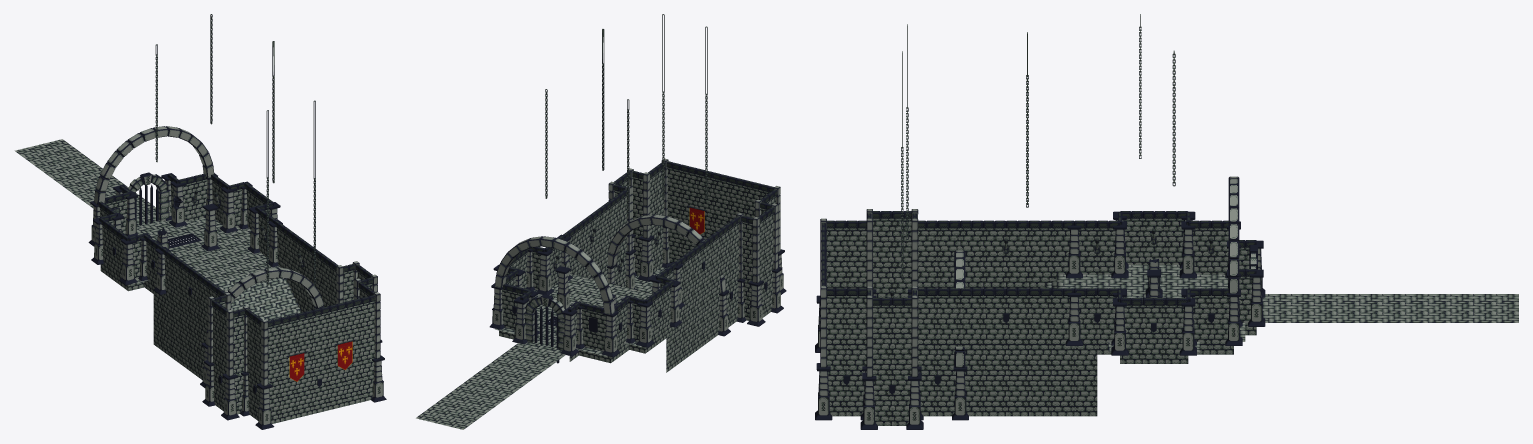
The model's file is Level0.fbx.
3 renders of one model, left to right at view 1: azimuth 30°, elevation 25°; view 2: azimuth 150°, elevation 25°; view 3: azimuth 270°, elevation 25°, orthographic. The views are drawn at different scales.
Parts seen in each view (by area): view 1: Level0, Door; view 2: Level0, Door; view 3: Level0.
Boxes of the visible parts, x1,y1,x2,y2 form: Level0: (14, 14, 386, 429); Door: (134, 184, 158, 225); Level0: (416, 14, 786, 429); Door: (534, 306, 559, 363); Level0: (815, 14, 1518, 429).
Size of the model in its own units: 1466 by 2698 by 4632.
